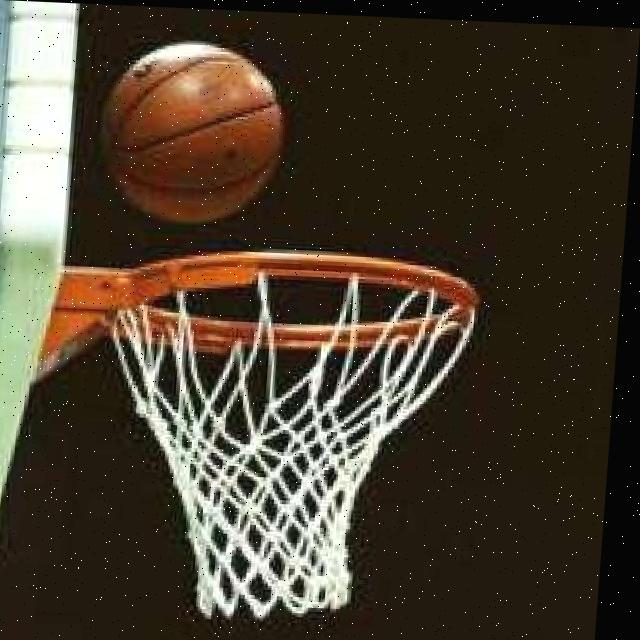Basketball: (96, 42, 284, 230)
